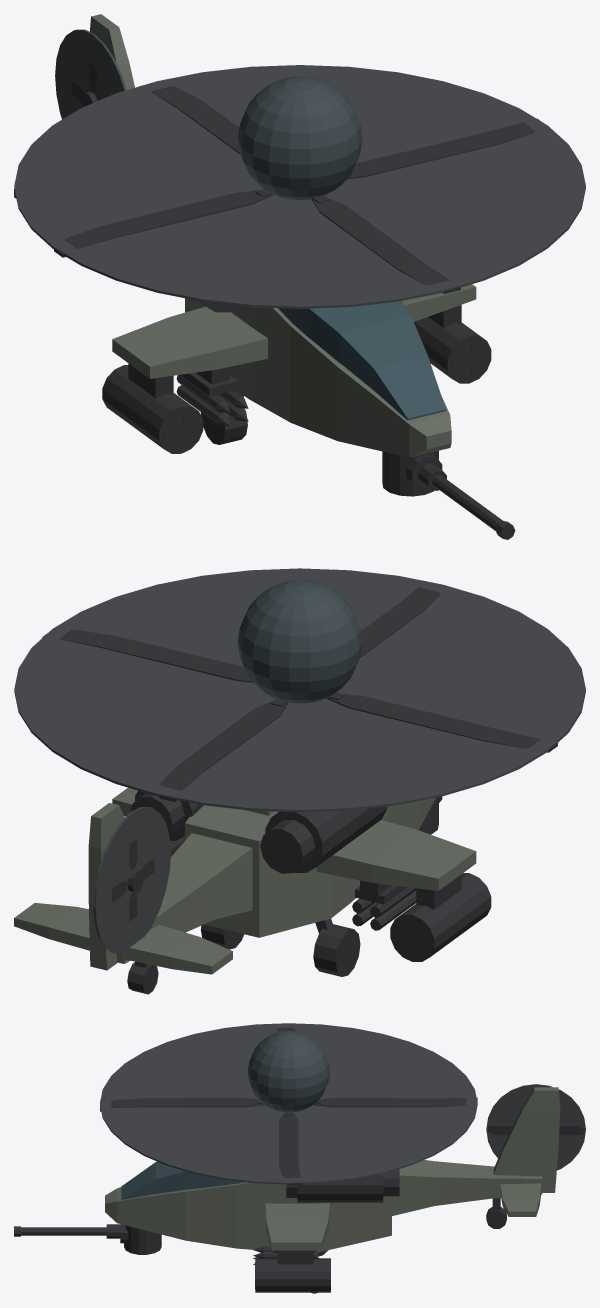
File: AH64.pre_011_backup.fbx
3 views of the same model, one above another, from view 1: azimuth 30°, elevation 25°; view 2: azimuth 150°, elevation 25°; view 3: azimuth 270°, elevation 25° (orthographic). The views are drawn at different scales.
Visible parts, largest first — view 1: RotorBlurMain, Airframe, RadarDome, MainRotor, Canopy, PodRocketR, RotorBlurTail, PodRocketL, AirframeDark, PodMissileR, ChinTurret, ChinBarrel; view 2: RotorBlurMain, Airframe, RadarDome, AirframeDark, MainRotor, RotorBlurTail, PodRocketR, PodMissileR, TailRotor; view 3: RotorBlurMain, Airframe, RadarDome, MainRotor, AirframeDark, RotorBlurTail, PodRocketL, Canopy, ChinBarrel, ChinTurret, TailRotor.
Part boxes in pixels (x1,y1,x2,y2): RotorBlurMain: (14,65,585,308); Airframe: (14,14,476,457); RadarDome: (237,76,362,199); MainRotor: (54,86,539,293); Canopy: (278,301,445,420); PodRocketR: (102,365,203,453); RotorBlurTail: (55,29,126,119); PodRocketL: (414,317,491,383); AirframeDark: (128,301,461,444); PodMissileR: (176,372,248,425); ChinTurret: (382,450,442,496); ChinBarrel: (418,463,515,539); RotorBlurMain: (14,568,585,812); Airframe: (14,787,476,974); RadarDome: (237,580,362,703); AirframeDark: (127,790,461,994); MainRotor: (42,587,557,801); RotorBlurTail: (93,807,170,953); PodRocketR: (390,873,491,961); PodMissileR: (352,885,416,930); TailRotor: (93,839,154,921); RotorBlurMain: (100,1023,477,1184); Airframe: (105,1087,560,1252); RadarDome: (247,1031,329,1112); MainRotor: (100,1028,477,1185); AirframeDark: (277,1169,506,1293); RotorBlurTail: (486,1084,585,1170); PodRocketL: (255,1258,330,1292); Canopy: (121,1161,245,1199); ChinBarrel: (14,1224,120,1238); ChinTurret: (120,1224,161,1254); TailRotor: (488,1086,584,1135).
Bounding box in the file's own units: 4.4 × 3.05 × 6.66.
